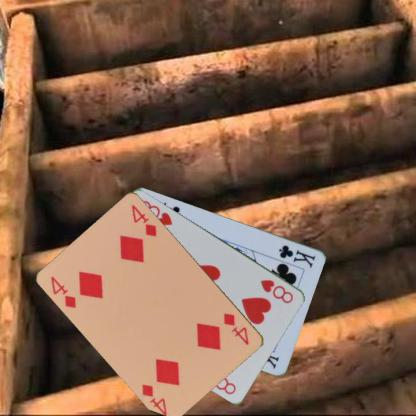4d: (221, 310, 251, 347), (49, 273, 78, 310)
8h: (258, 277, 295, 305)
Kc: (276, 242, 317, 269)
